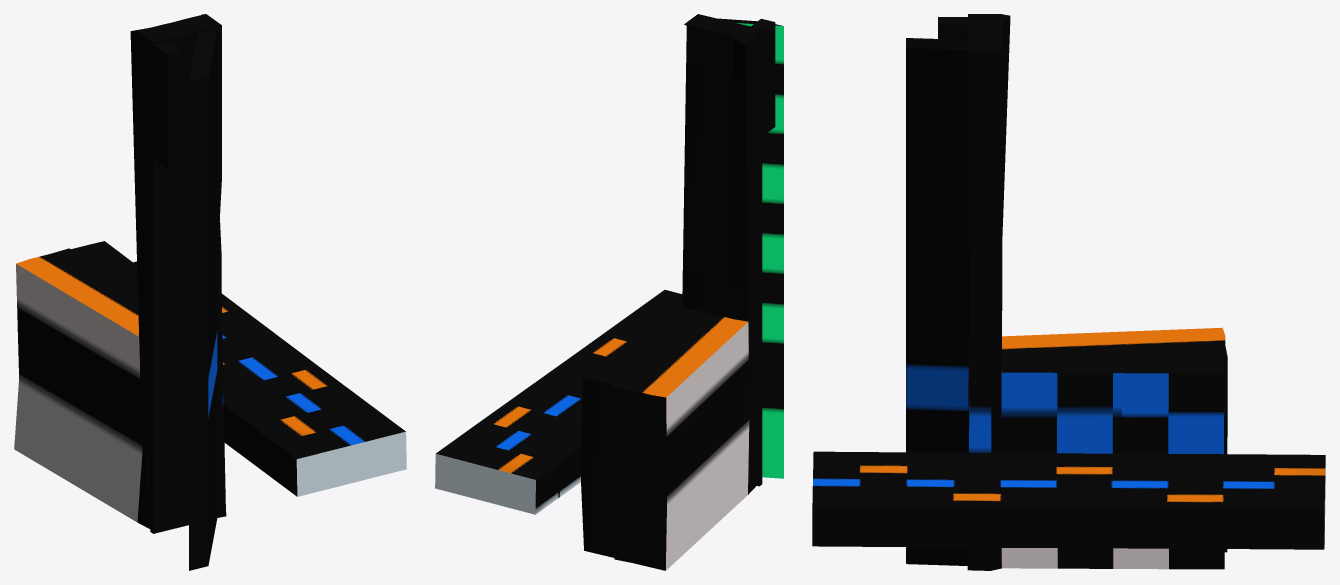
Rendered from stock exchange.fbx.
3 views of the same model, side by side, from view 1: azimuth 30°, elevation 25°; view 2: azimuth 150°, elevation 25°; view 3: azimuth 270°, elevation 25° (orthographic). The views are drawn at different scales.
Parts seen in each view (by area): view 1: Cube; view 2: Cube; view 3: Cube.
Boxes of the visible parts, bbox=[...] form: Cube: bbox=[14, 14, 406, 570]; Cube: bbox=[435, 14, 783, 570]; Cube: bbox=[812, 14, 1325, 570].
Size of the model in its own units: 8968 by 21565 by 18697.
